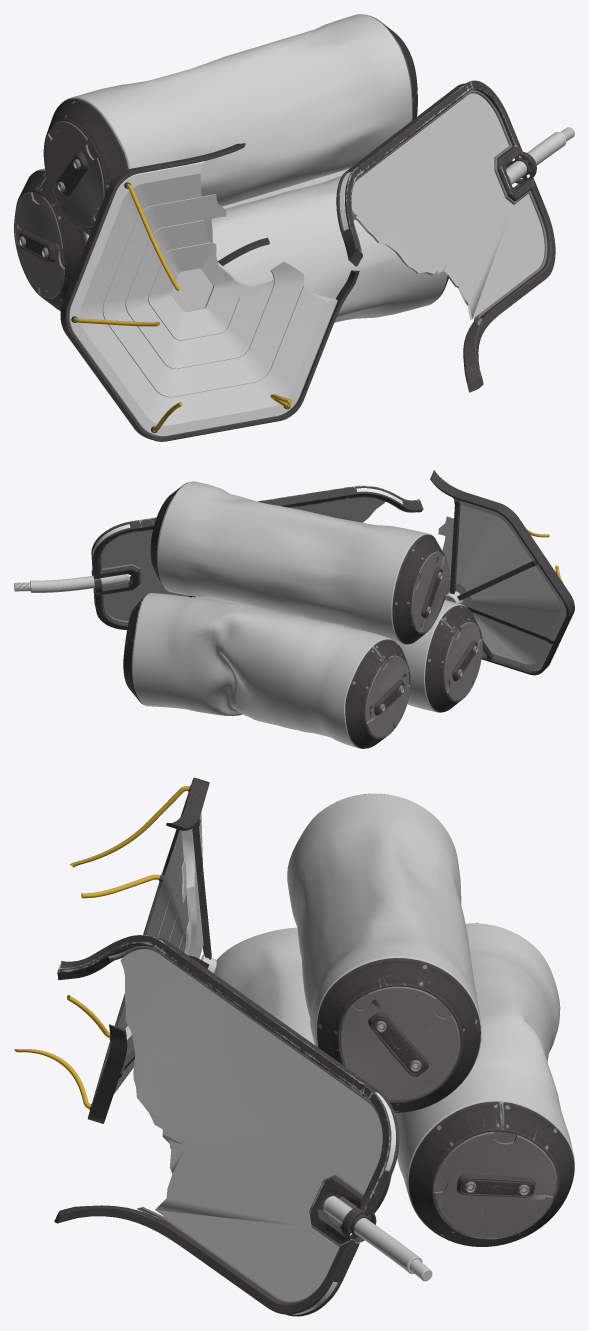
File: KB3D_MTM_PropRubble_A.fbx
3 views of the same model, one above another, from view 1: azimuth 30°, elevation 25°; view 2: azimuth 150°, elevation 25°; view 3: azimuth 270°, elevation 25° (orthographic). The views are drawn at different scales.
Visible parts, largest first — view 1: KB3D_MTM_PropRubble_A_Main; view 2: KB3D_MTM_PropRubble_A_Main; view 3: KB3D_MTM_PropRubble_A_Main.
Boxes of the visible parts, x1,y1,x2,y2 form: KB3D_MTM_PropRubble_A_Main: [14, 14, 574, 441]; KB3D_MTM_PropRubble_A_Main: [14, 470, 574, 748]; KB3D_MTM_PropRubble_A_Main: [14, 777, 574, 1316].
Size of the model in its own units: 536 by 212 by 362.
